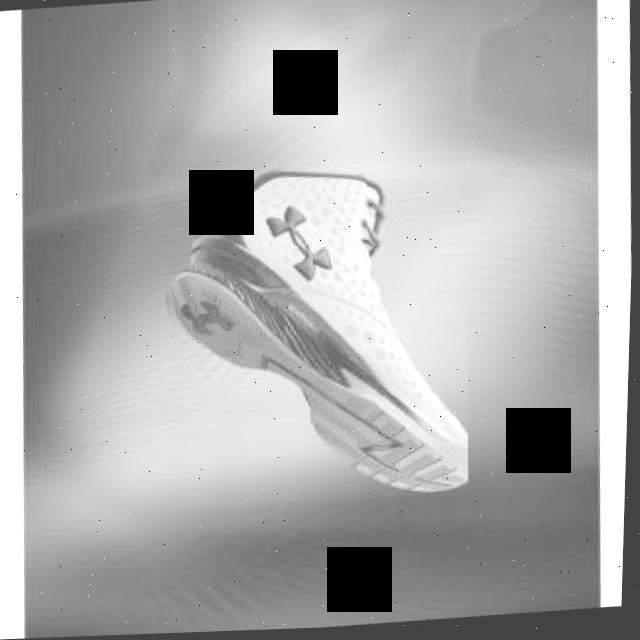shoe: (155, 156, 479, 513)
